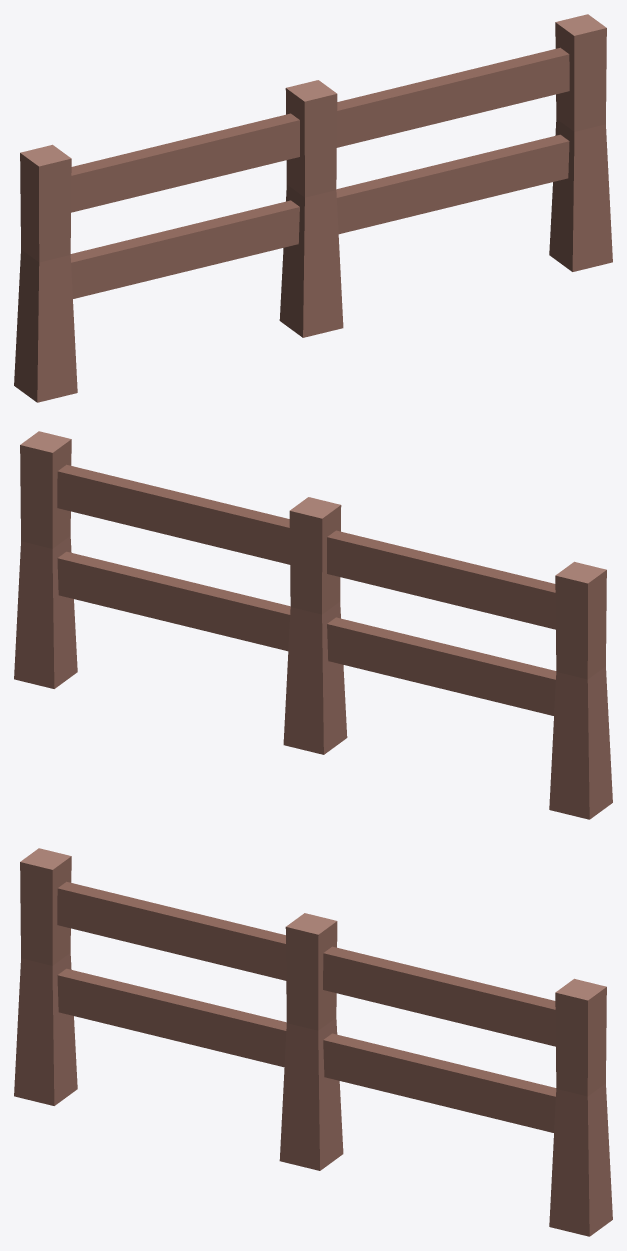
Rendered from PFE-Props-Barière-simple-allonger.fbx.
3 views of the same model, one above another, from view 1: azimuth 30°, elevation 25°; view 2: azimuth 150°, elevation 25°; view 3: azimuth 330°, elevation 25° (orthographic).
Parts seen in each view (by area): view 1: Barrière.; view 2: Barrière.; view 3: Barrière..
Boxes of the visible parts, x1,y1,x2,y2 form: Barrière.: (14, 14, 612, 402); Barrière.: (14, 431, 612, 819); Barrière.: (14, 848, 612, 1236).
Size of the model in its own units: 950 by 368 by 66.65.
